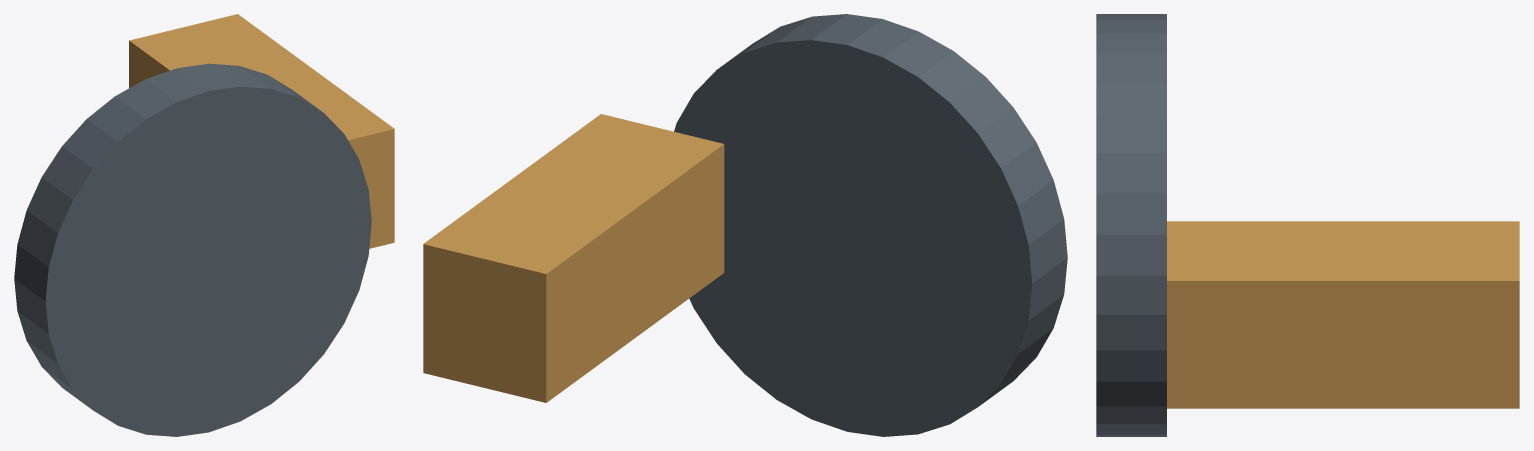
The picture shows the model from 3 angles, left to right: view 1: azimuth 30°, elevation 25°; view 2: azimuth 150°, elevation 25°; view 3: azimuth 270°, elevation 25°; orthographic projection. The views are drawn at different scales.
Visible parts, largest first — view 1: flange, rubber; view 2: flange, rubber; view 3: rubber, flange.
Boxes of the visible parts, <box> form: flange: <box>14,63,371,436</box>; rubber: <box>129,14,394,248</box>; flange: <box>674,14,1067,436</box>; rubber: <box>423,114,724,402</box>; rubber: <box>1167,221,1519,408</box>; flange: <box>1096,14,1166,436</box>.
Bounding box in the file's own units: 0.07 × 0.06 × 0.06.
